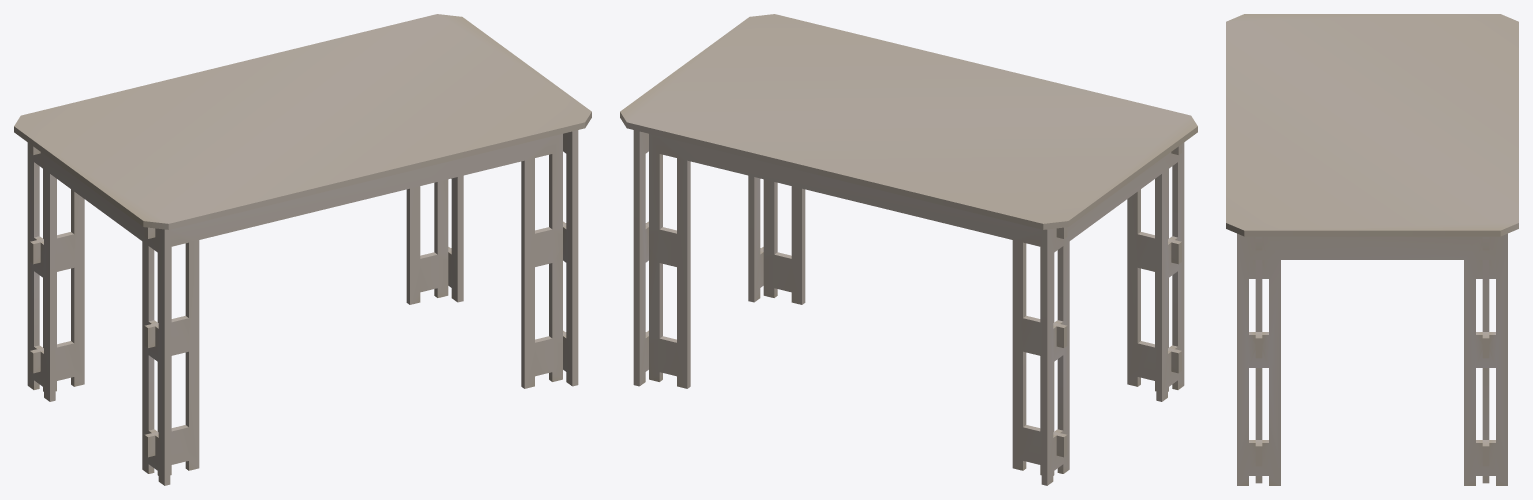
Rendered from NODO_MESA_COMEDOR_PORTICO_PARAISO_APROBADA_DXF.glb.
The picture shows the model from 3 angles, left to right: view 1: azimuth 30°, elevation 25°; view 2: azimuth 150°, elevation 25°; view 3: azimuth 270°, elevation 25°; orthographic projection.
Visible parts, largest first — view 1: Tapa, Lateral 8E, Travesaño 83, Lateral 89, Travesaño 84; view 2: Tapa, Lateral 89, Travesaño 83, Lateral 8E, Travesaño 84; view 3: Tapa, Travesaño 84, Lateral 89, Lateral 8E, Travesaño 83.
Part boxes in pixels (x1,y1,x2,y2): Tapa: (14, 14, 591, 229); Lateral 8E: (144, 134, 566, 475); Travesaño 83: (27, 142, 170, 485); Lateral 89: (30, 144, 451, 391); Travesaño 84: (448, 130, 578, 386); Tapa: (620, 14, 1197, 229); Lateral 89: (645, 134, 1067, 475); Travesaño 83: (1041, 142, 1184, 485); Lateral 8E: (760, 144, 1181, 391); Travesaño 84: (633, 130, 763, 386); Tapa: (1226, 14, 1518, 236); Travesaño 84: (1237, 233, 1507, 485); Lateral 89: (1482, 236, 1489, 483); Lateral 8E: (1255, 236, 1262, 483); Travesaño 83: (1249, 260, 1495, 278).
Size of the model in its own units: 1.4 by 0.795 by 0.8.
